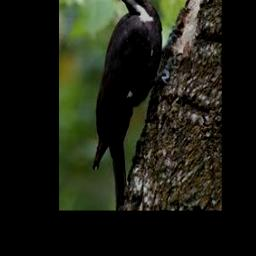Woodpecker: (93, 0, 177, 210)
